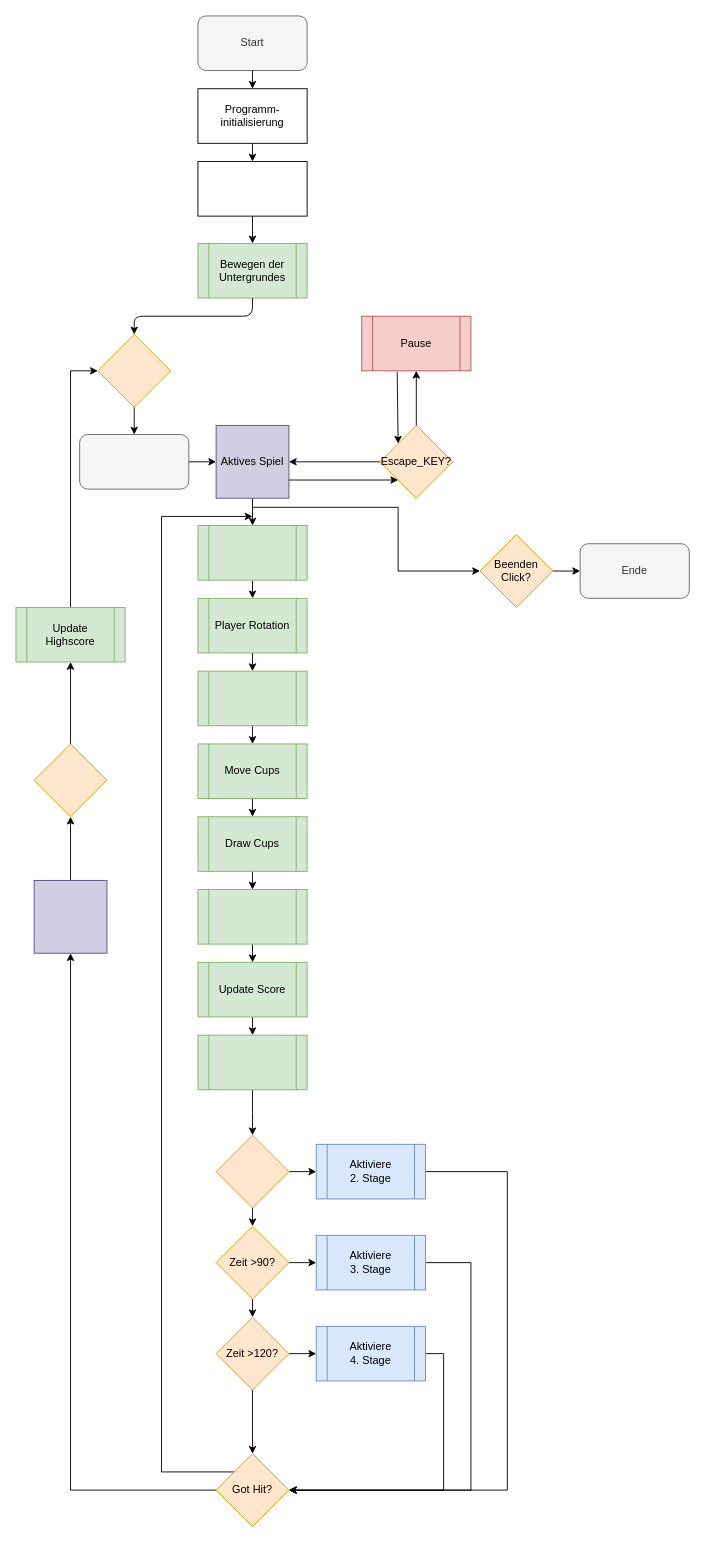
Image size: 705x1542. Some labels were removed from this diagram. Each missing label, with the box of its shape:
Bewegung Vordergrund: (197, 1034, 307, 1090)
Check Collision: (197, 670, 307, 726)
Create Cup: (197, 525, 307, 580)
Display Score: (197, 889, 307, 944)
Inaktives Spiel: (33, 880, 107, 953)
Laden der Assets und Variablen: (197, 161, 307, 216)
Neustart: (79, 434, 189, 489)
Score > Highscore?: (33, 743, 107, 817)
Space_KEY?: (97, 334, 171, 407)
Zeit >60?: (215, 1134, 289, 1208)
